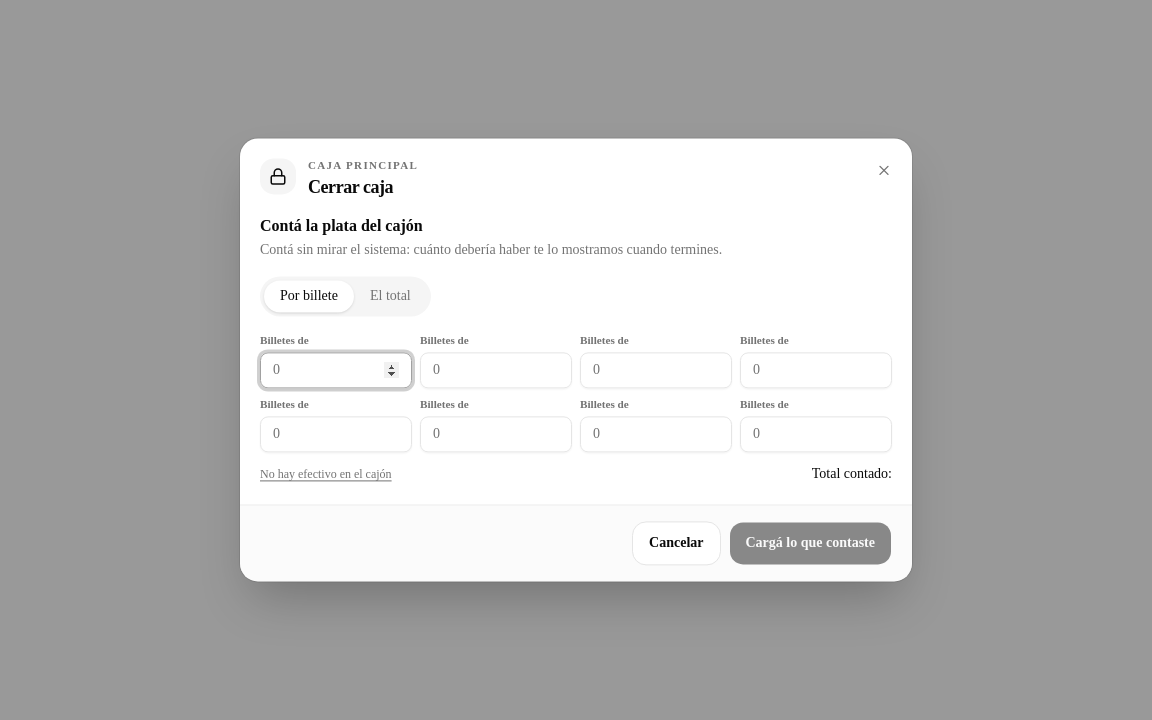
CerrarCajaModal · conteo ciego (spec 209) › si se corta la red al terminar de contar, lo dice y deja reintentar
Click the button "El total" at x=390, y=297, box [354,281,427,313]
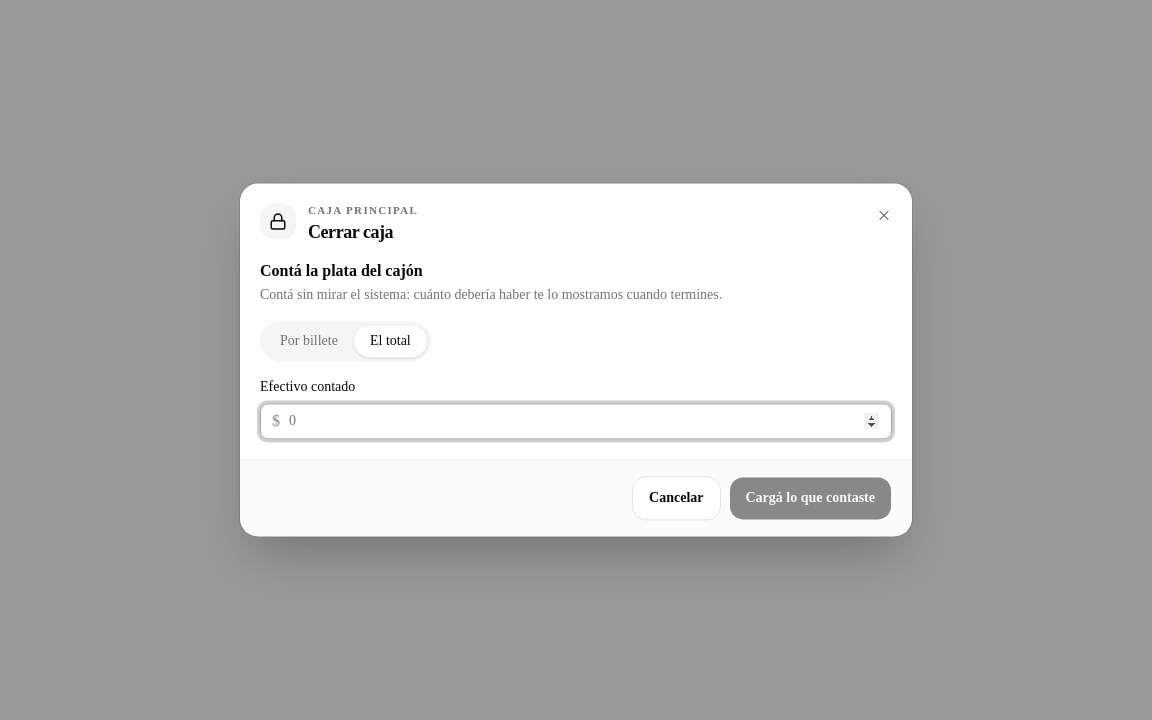
Type "3124" into the number field labelled "Efectivo contado" at x=576, y=422, box [260,404,892,440]
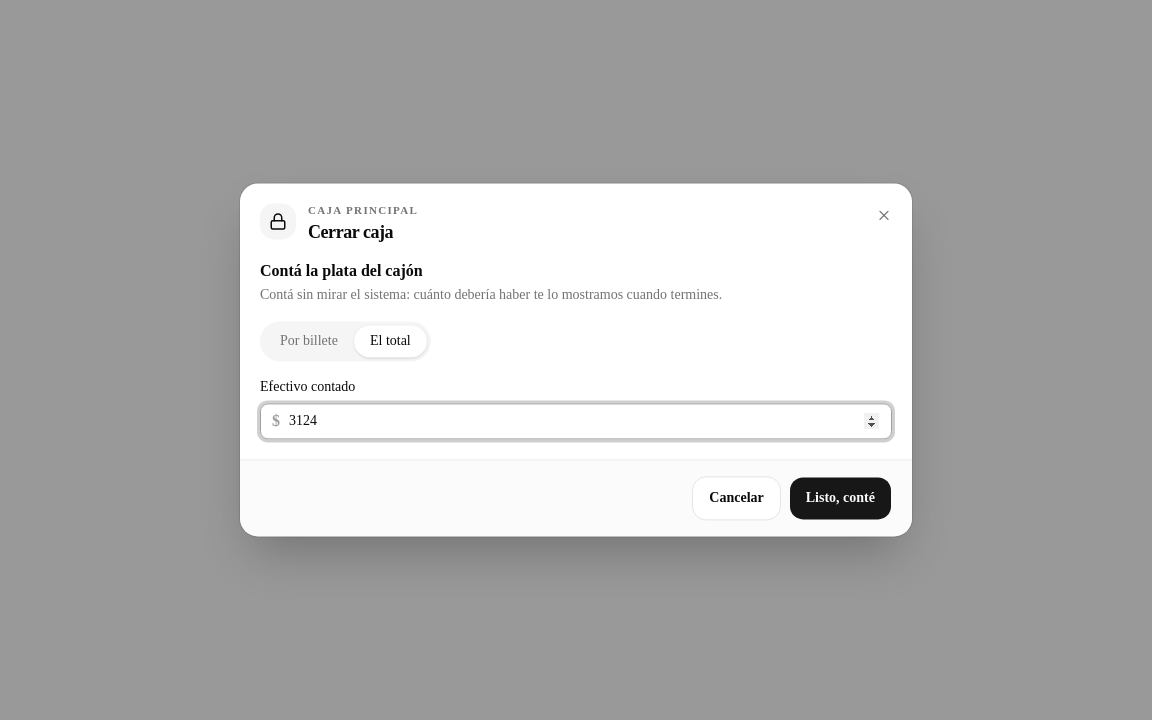
Click the button "Listo, conté" at x=840, y=499, box [789,477,892,521]
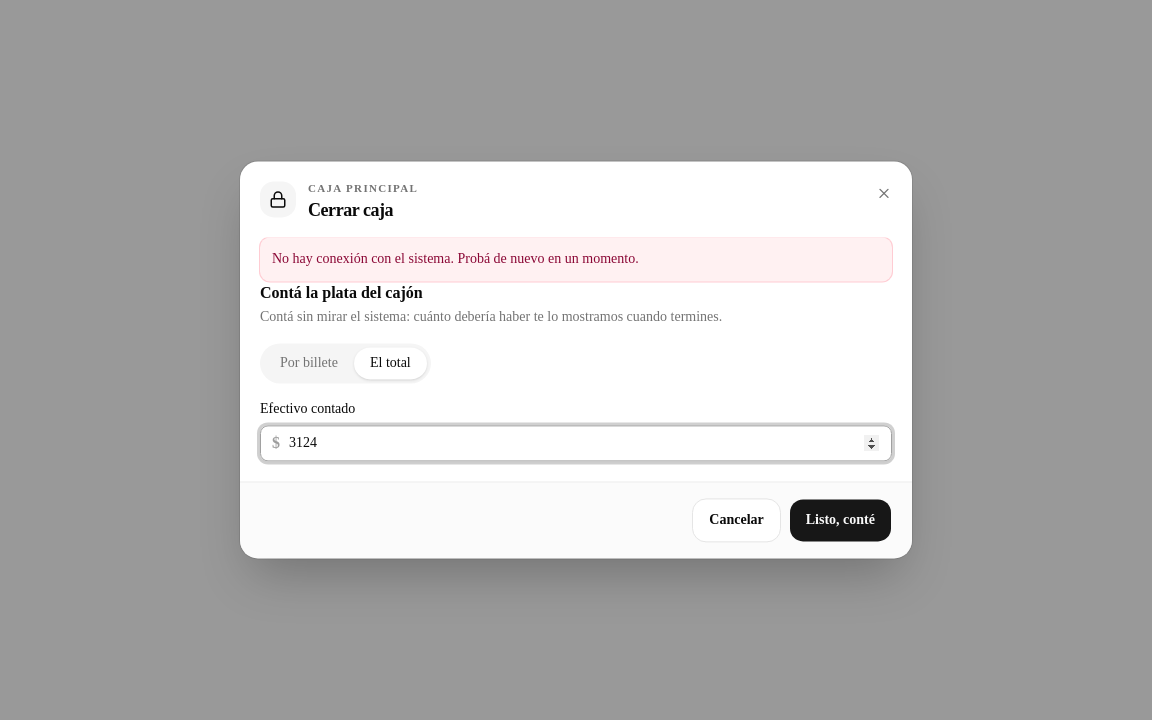
Result: the button "Listo, conté" is enabled at [789,499,892,543]
Result: the text "No hay conexión" is shown at [272,252,639,267]
